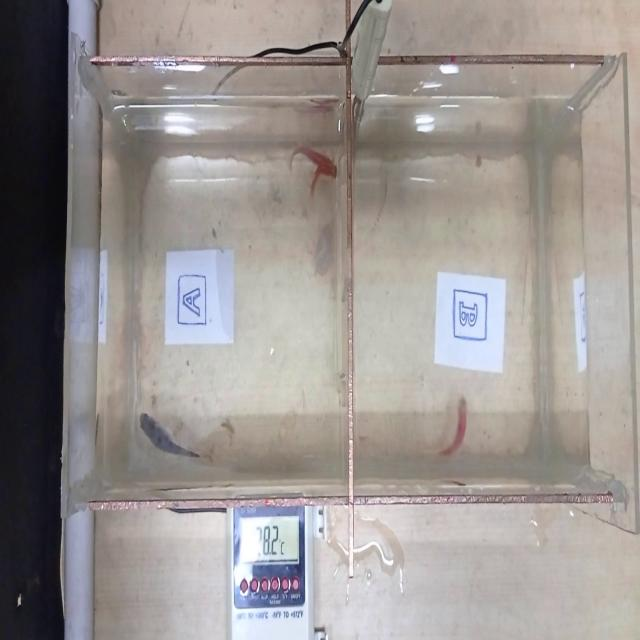Fish A1: (132, 400, 230, 474)
Fish A2: (306, 161, 330, 207)
Fish A3: (284, 130, 342, 188)
Fish B: (430, 379, 480, 460)
